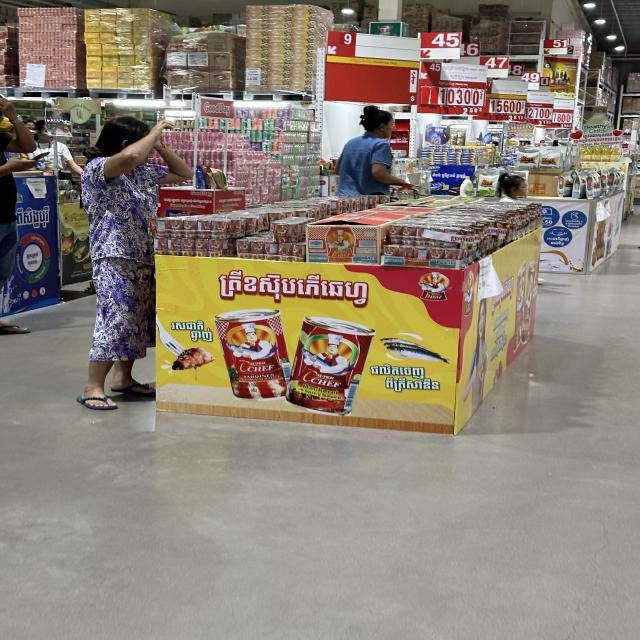Yolov11_80vkh: (207, 265, 372, 312), (368, 359, 424, 381), (376, 378, 444, 393), (158, 316, 212, 331), (177, 330, 215, 342)
